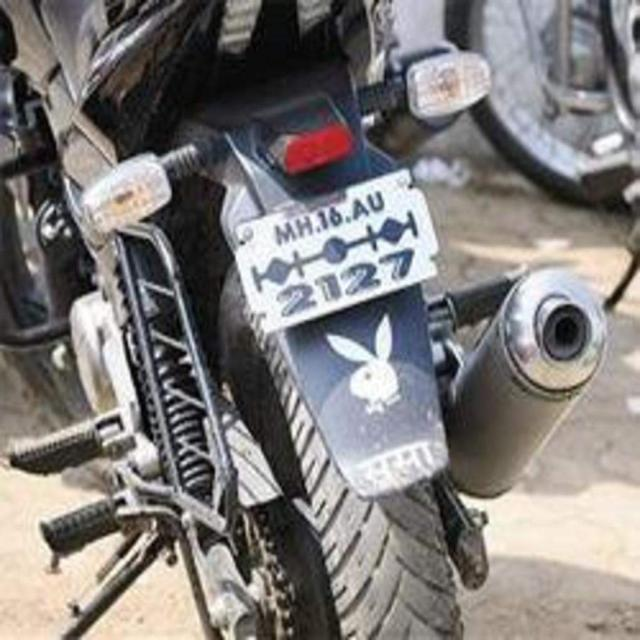license_plate: (227, 164, 441, 337)
